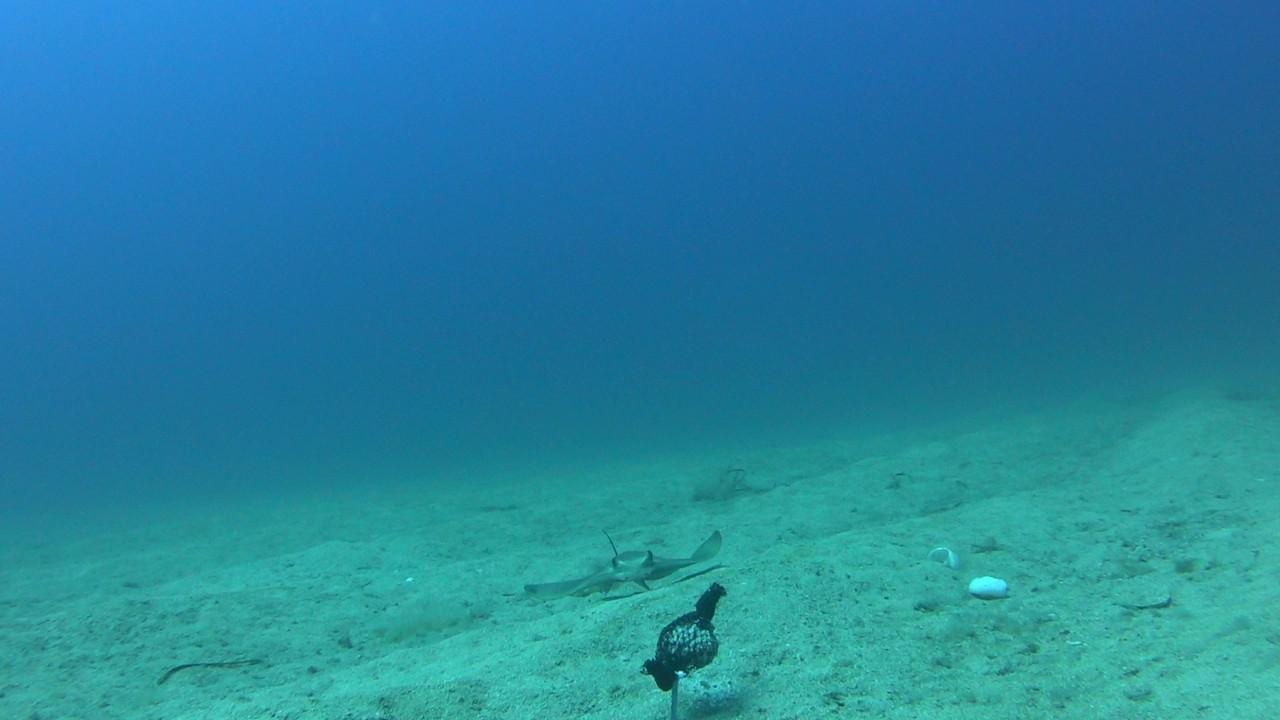myliobatis: (522, 524, 730, 608)
